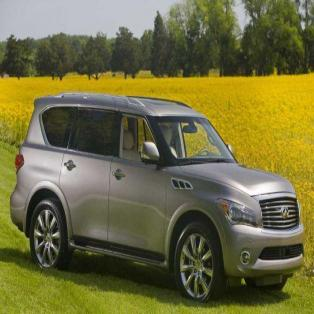Auto: (8, 93, 306, 306)
